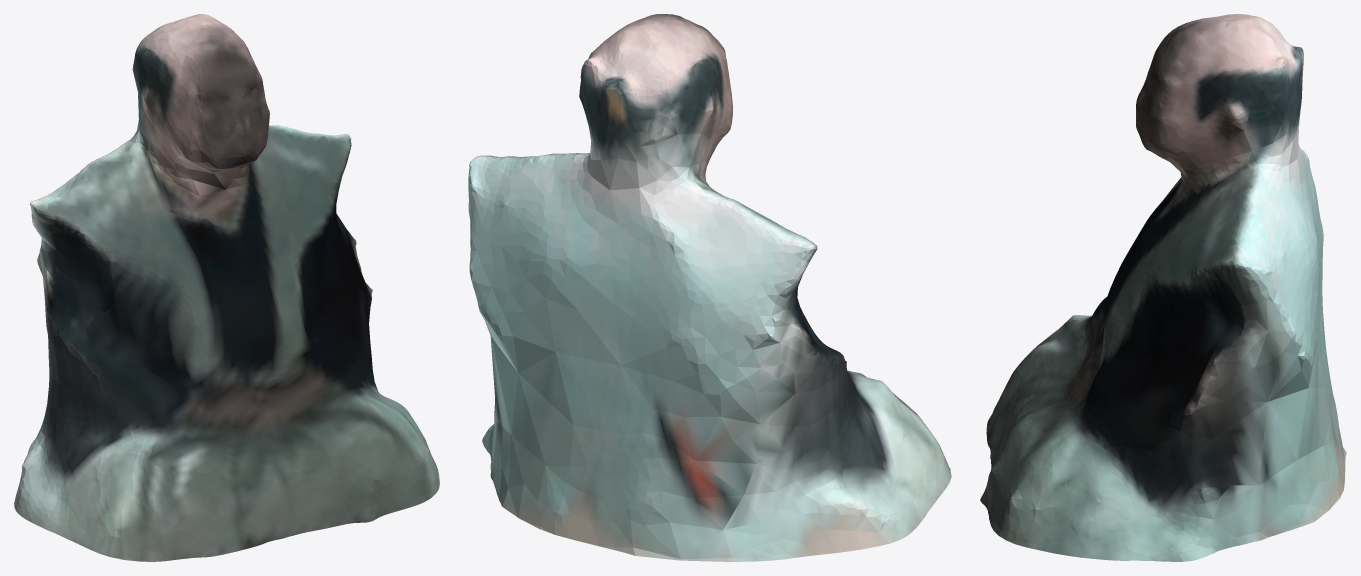
File: Scaniverse 2023-09-29 160113.glb
3 renders of one model, left to right at view 1: azimuth 30°, elevation 25°; view 2: azimuth 150°, elevation 25°; view 3: azimuth 270°, elevation 25°, orthographic. The views are drawn at different scales.
Parts seen in each view (by area): view 1: mesh; view 2: mesh; view 3: mesh.
Boxes of the visible parts, <box> form: mesh: <box>14,14,439,561</box>; mesh: <box>468,14,951,561</box>; mesh: <box>980,14,1346,561</box>.
Size of the model in its own units: 0.1547 by 0.1678 by 0.1231.
Materials: 1 (1 with a texture image).
